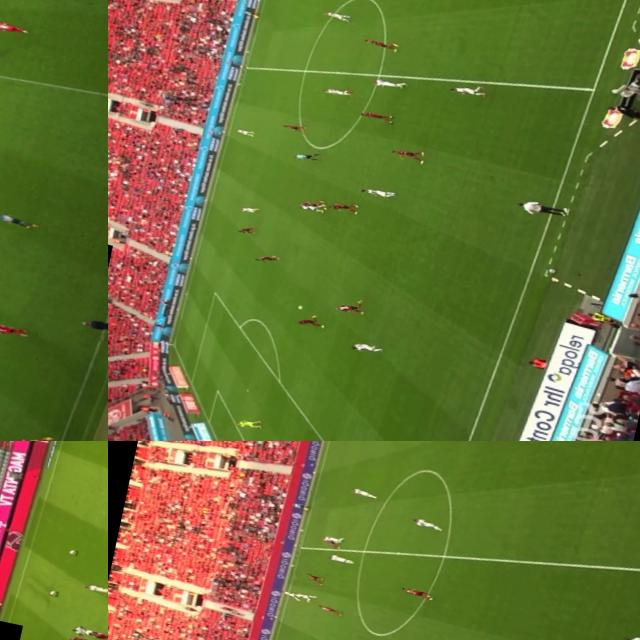ball: (292, 302, 307, 312), (46, 588, 57, 596), (66, 548, 76, 556)
player: (387, 143, 427, 165), (330, 296, 368, 316), (356, 184, 399, 201), (0, 210, 37, 229), (359, 36, 398, 54), (357, 108, 394, 125), (370, 76, 408, 92), (448, 82, 484, 98), (408, 516, 443, 532), (326, 199, 360, 215), (399, 585, 435, 600), (347, 340, 384, 354), (294, 314, 326, 330), (318, 9, 352, 22), (0, 321, 27, 337), (325, 552, 354, 566), (318, 85, 349, 98), (0, 19, 27, 33), (296, 197, 324, 210), (296, 202, 324, 214), (350, 488, 378, 500), (83, 583, 108, 596), (233, 418, 260, 430), (71, 626, 98, 638), (316, 603, 340, 616), (252, 252, 277, 264), (302, 572, 324, 585), (319, 536, 342, 548), (279, 121, 304, 132), (231, 126, 255, 137), (319, 534, 342, 544), (232, 224, 254, 234), (278, 590, 300, 600), (292, 591, 314, 601), (66, 633, 97, 640), (237, 204, 258, 214), (90, 631, 108, 640)
